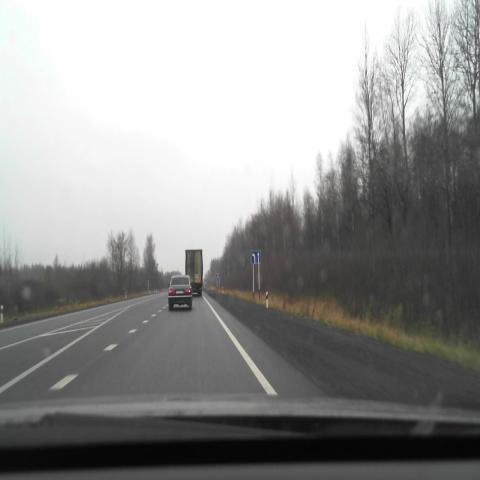5_15_2_2: (251, 250, 261, 264)
